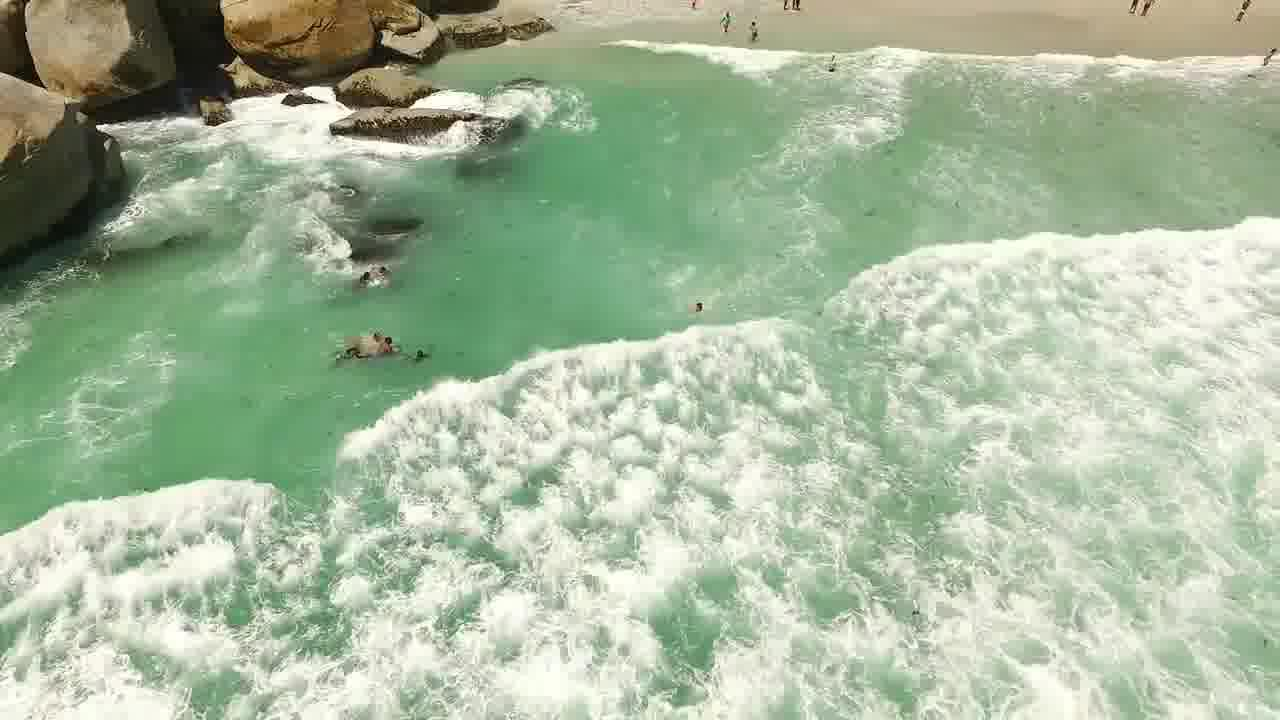human: (680, 283, 718, 320), (411, 337, 436, 376), (709, 7, 738, 37), (741, 6, 762, 47), (373, 254, 393, 283), (351, 259, 364, 293), (382, 322, 393, 351), (363, 322, 373, 340)
